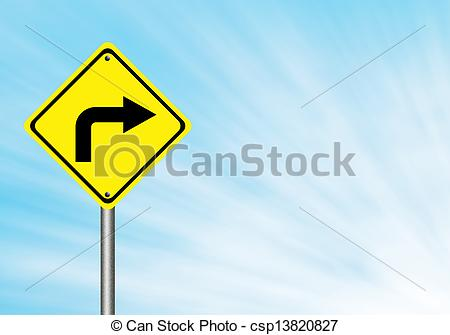right: (21, 39, 194, 211)
